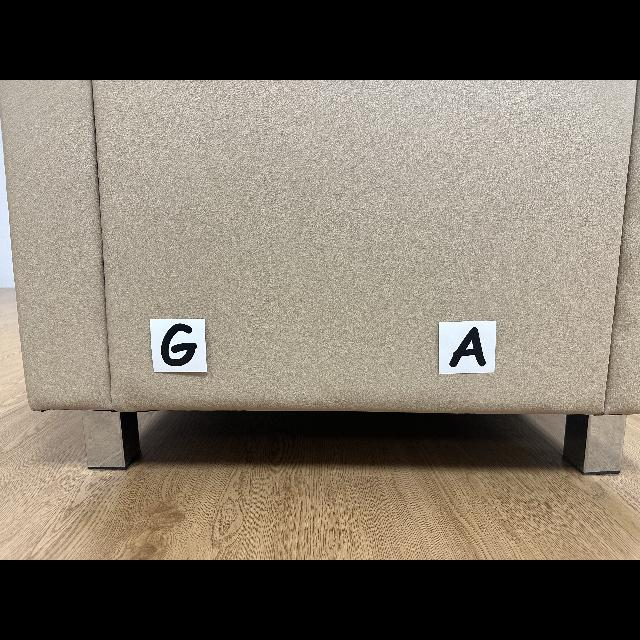A: (450, 328, 486, 368)
G: (161, 324, 196, 366)
